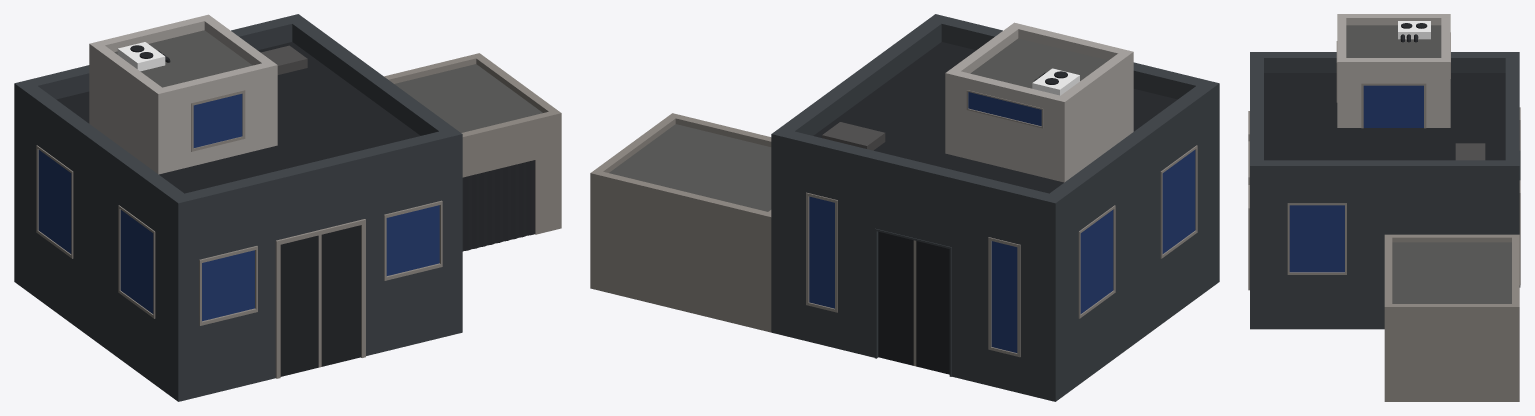
The model's file is Apartment_8.fbx.
3 views of the same model, side by side, from view 1: azimuth 30°, elevation 25°; view 2: azimuth 150°, elevation 25°; view 3: azimuth 270°, elevation 25° (orthographic). The views are drawn at different scales.
Visible parts, largest first — view 1: Apartment_8; view 2: Apartment_8; view 3: Apartment_8.
Part boxes in pixels (bbox=[...]): Apartment_8: bbox=[14, 14, 561, 401]; Apartment_8: bbox=[590, 14, 1219, 401]; Apartment_8: bbox=[1248, 14, 1520, 401].
Bounding box in the file's own units: 1514 × 814 × 931.
